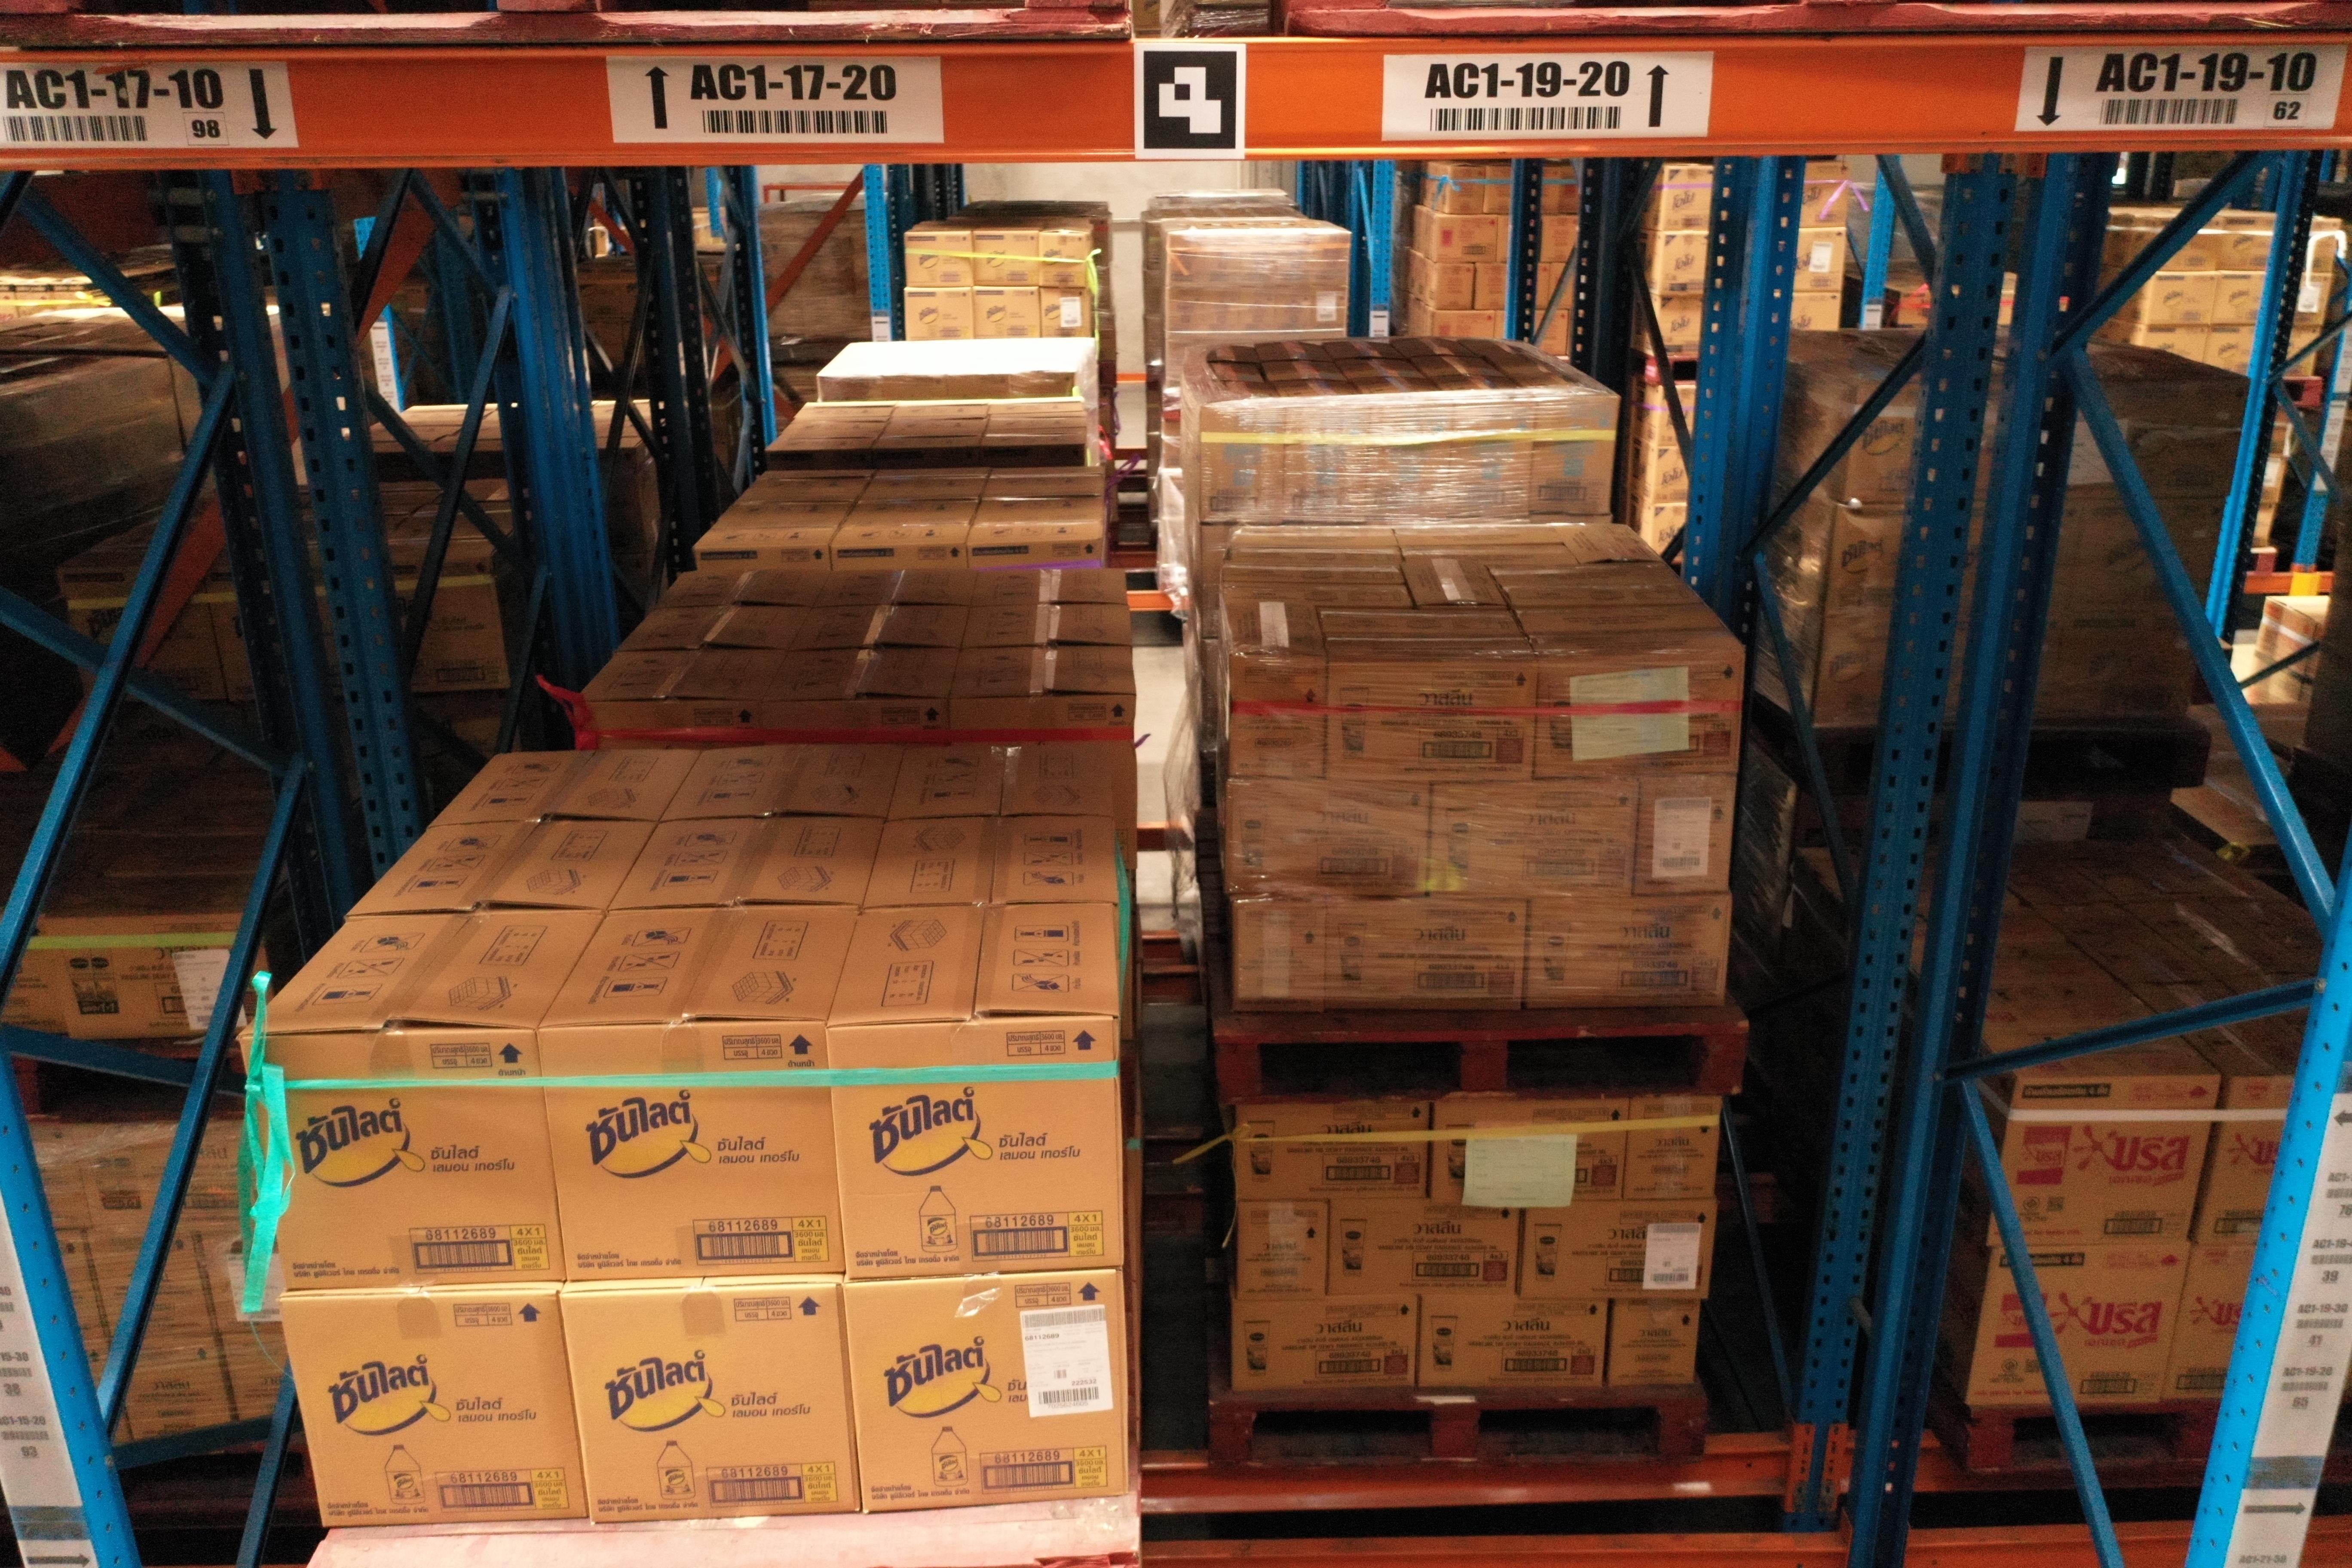-: (238, 1031, 567, 1293), (537, 1018, 847, 1286), (828, 1015, 1123, 1283), (558, 1288, 861, 1529), (275, 1295, 584, 1529), (840, 1274, 1130, 1512)
2: (1288, 395, 1382, 523), (1197, 397, 1286, 525), (1528, 397, 1619, 516), (1445, 401, 1535, 520), (1374, 397, 1454, 523)
box: (1990, 1076, 2222, 1251), (1965, 1246, 2189, 1409), (1535, 649, 1743, 777), (1323, 660, 1538, 780), (1428, 777, 1640, 899), (1225, 779, 1431, 898), (1524, 892, 1731, 1006), (1325, 898, 1526, 1010), (1431, 1101, 1629, 1202), (1234, 1104, 1433, 1204), (1326, 1200, 1521, 1300), (1519, 1200, 1715, 1298), (1230, 1297, 1417, 1396), (2194, 1074, 2299, 1251), (1417, 1297, 1608, 1389), (2165, 1246, 2259, 1403), (1227, 653, 1330, 782), (1633, 773, 1738, 898), (1235, 894, 1326, 1010), (1622, 1097, 1720, 1202), (1234, 1199, 1328, 1302), (1608, 1298, 1699, 1389)
